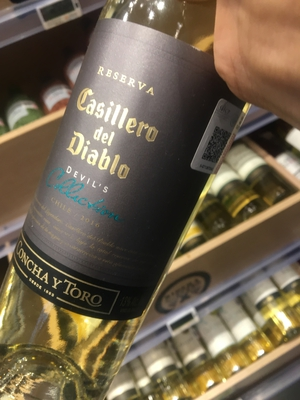casillero del diablo devils collection verde: (20, 6, 234, 394)
